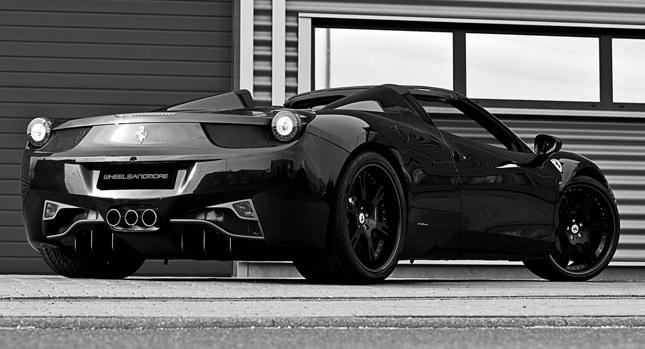car: (23, 84, 621, 285)
